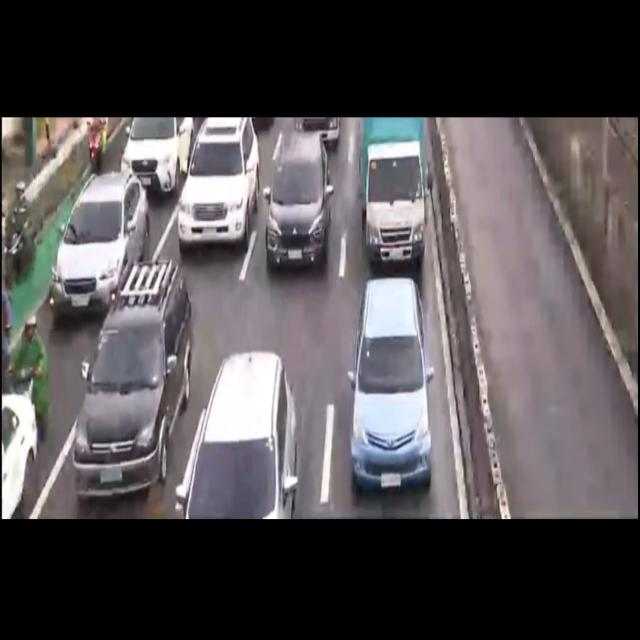Motorcycle: (4, 174, 38, 290), (16, 317, 46, 443)
SUV: (72, 262, 195, 498), (348, 277, 437, 492), (190, 360, 306, 519), (181, 121, 260, 252), (261, 129, 331, 271)
Sedan: (48, 172, 148, 308), (120, 119, 191, 188)
Truck: (354, 115, 428, 272)
